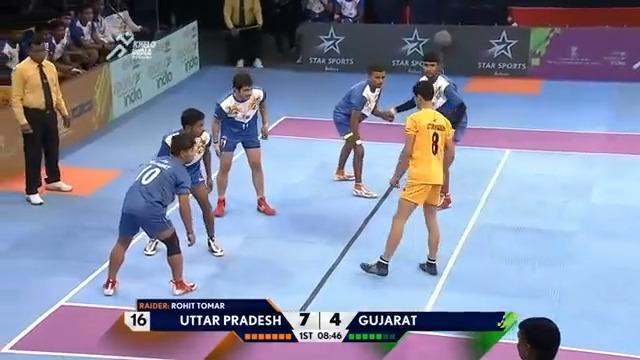Player: (101, 129, 201, 297), (153, 108, 224, 253), (209, 69, 278, 218), (403, 51, 486, 157), (330, 62, 394, 199)
Raider: (358, 79, 456, 278)
referee: (222, 0, 264, 68)
